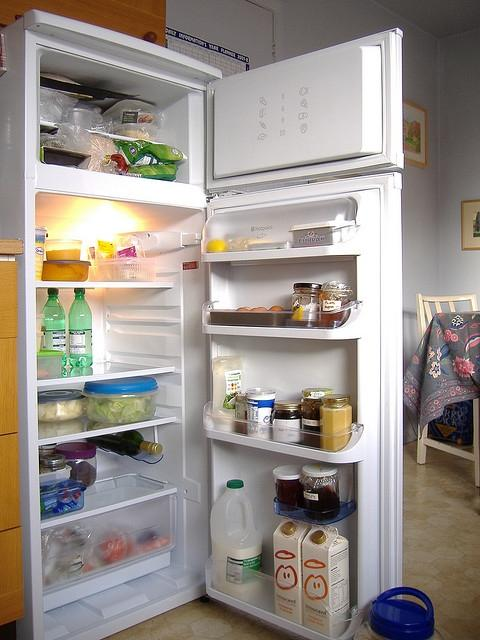lemon: (206, 239, 227, 253)
lettuce: (85, 398, 104, 422), (122, 402, 138, 417), (100, 399, 115, 409), (112, 401, 128, 409), (146, 404, 156, 414)
